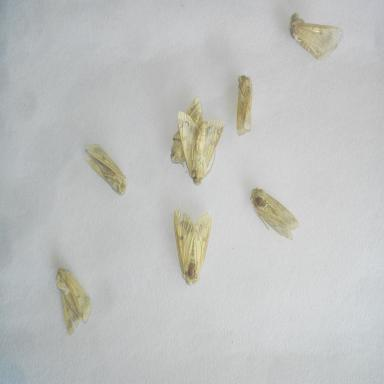abw: (171, 204, 215, 288), (166, 90, 210, 168), (285, 10, 346, 64), (246, 186, 303, 242), (53, 263, 94, 340), (82, 139, 130, 200), (231, 70, 260, 142)
